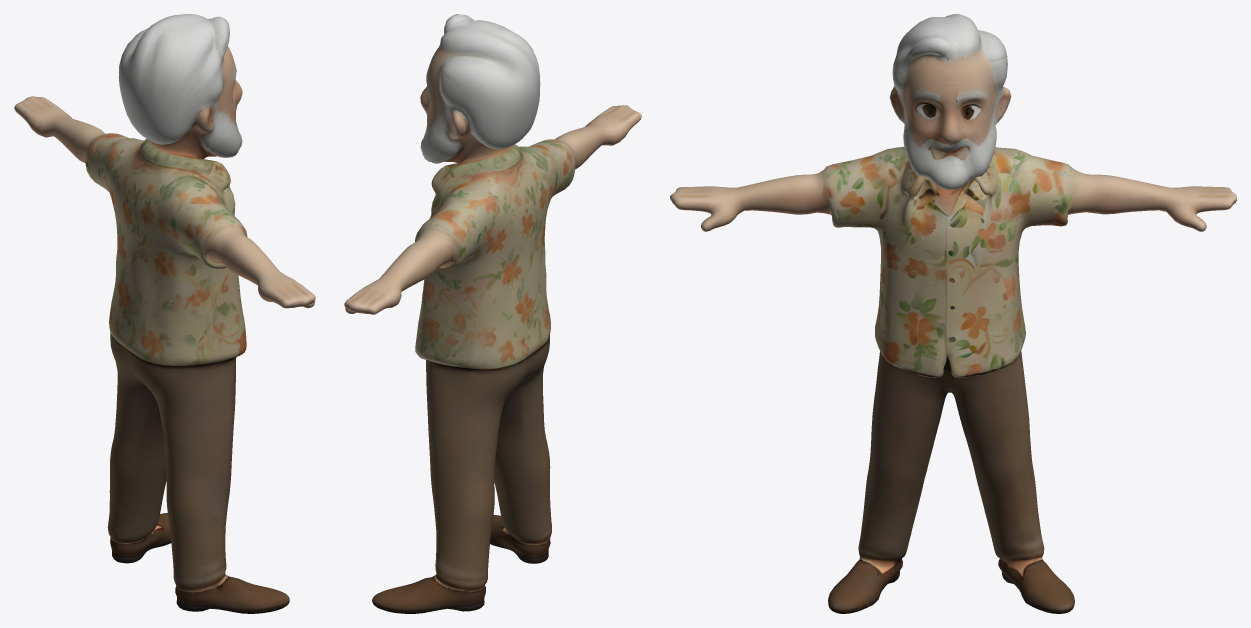
Rendered from tripo_convert_7790af61-46f5-46b1-a57b-b1a2d17ca310.fbx.
3 renders of one model, left to right at view 1: azimuth 30°, elevation 25°; view 2: azimuth 150°, elevation 25°; view 3: azimuth 270°, elevation 25°, orthographic. The views are drawn at different scales.
Visible parts, largest first — view 1: tripo_node_7790af61; view 2: tripo_node_7790af61; view 3: tripo_node_7790af61.
Part boxes in pixels (x1,y1,x2,y2): tripo_node_7790af61: [14, 14, 315, 613]; tripo_node_7790af61: [344, 14, 641, 613]; tripo_node_7790af61: [670, 14, 1236, 613].
Bounding box in the file's own units: 0.2068 × 0.9483 × 0.8573.
Materials: 1 (1 with a texture image).
